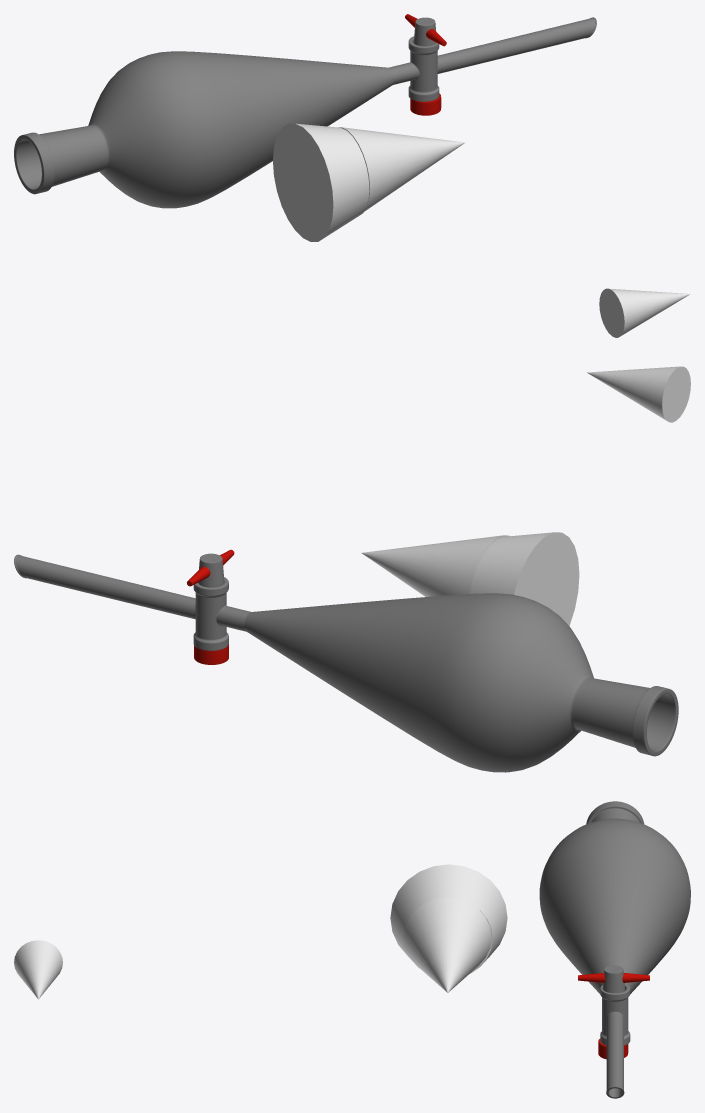
File: sanjiaozhui.FBX
The picture shows the model from 3 angles, top to bottom: view 1: azimuth 30°, elevation 25°; view 2: azimuth 150°, elevation 25°; view 3: azimuth 270°, elevation 25°; orthographic projection. The views are drawn at different scales.
Parts seen in each view (by area): view 1: lengningguan_02_gaunzi_lengningguan_02_polySurface1, Cone001, Cone002, Cone003, lengningguan_02_gaunzi_polySurface1; view 2: lengningguan_02_gaunzi_lengningguan_02_polySurface1, Cone001, Cone002, Cone003, lengningguan_02_gaunzi_polySurface1; view 3: lengningguan_02_gaunzi_lengningguan_02_polySurface1, Cone002, Cone001, Cone003, lengningguan_02_gaunzi_polySurface1.
Part boxes in pixels (x1,y1,x2,y2): lengningguan_02_gaunzi_lengningguan_02_polySurface1: [14, 17, 596, 208]; Cone001: [273, 123, 369, 241]; Cone002: [339, 127, 465, 211]; Cone003: [599, 288, 690, 337]; lengningguan_02_gaunzi_polySurface1: [405, 14, 446, 46]; lengningguan_02_gaunzi_lengningguan_02_polySurface1: [14, 554, 678, 772]; Cone001: [470, 532, 579, 625]; Cone002: [361, 535, 509, 596]; Cone003: [587, 366, 690, 422]; lengningguan_02_gaunzi_polySurface1: [187, 549, 234, 587]; lengningguan_02_gaunzi_lengningguan_02_polySurface1: [539, 801, 690, 1098]; Cone002: [403, 897, 491, 992]; Cone001: [390, 864, 507, 973]; Cone003: [14, 940, 62, 999]; lengningguan_02_gaunzi_polySurface1: [578, 965, 649, 992].
Bounding box in the file's own units: 64.51 × 15.45 × 69.04.
